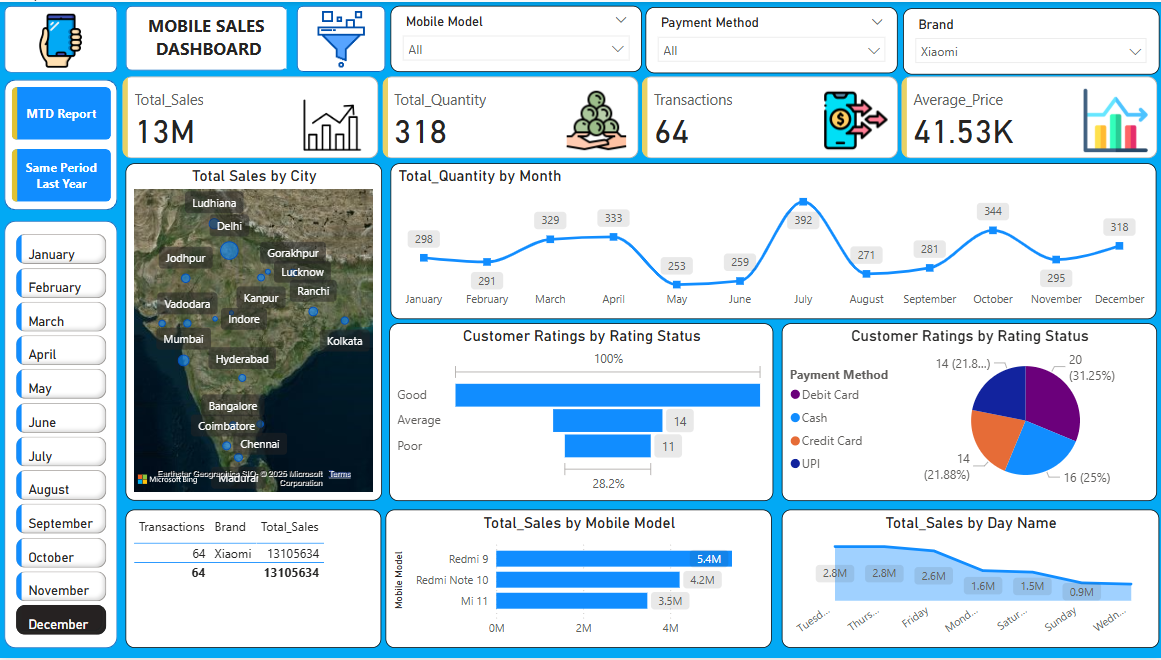

Layout of this report page (visuals, bound fields, positions):
{"tool":"powerbi","page":{"name":"Dashboard","canvas":[1280,720],"ordinal":0},"visuals":[{"type":"shape","box":[7.2,3.6,124.3,73.6],"z":0},{"type":"image","box":[35,3.6,68.8,77.2],"z":1000},{"type":"shape","box":[7.2,85.7,124.3,143.6],"z":2000},{"type":"shape","box":[7.2,240.1,124.3,469.3],"z":3000},{"type":"advancedSlicerVisual","fields":{"Values":["Custom_Calendar.Date.Variation.Date Hierarchy.Month"]},"box":[14.5,249.7,109.8,451.2],"z":4000},{"type":"cardVisual","fields":{"Data":["Mobile_Sales_Data.Total_Sales","Mobile_Sales_Data.Total_Quantity","Mobile_Sales_Data.Transactions","Mobile_Sales_Data.Average_Price"]},"box":[131.5,77.2,1148.5,100.1],"z":5000},{"type":"shape","box":[328,4.1,97.4,72.7],"z":6000},{"type":"slicer","fields":{"Values":["Mobile_Sales_Data.Mobile Model"]},"box":[430.9,4.1,275.8,72.7],"z":7000},{"type":"slicer","fields":{"Values":["Mobile_Sales_Data.Payment Method"]},"box":[710.8,5.5,277.2,72.7],"z":8000},{"type":"image","box":[328,4.1,97.4,74.1],"z":9000},{"type":"shape","box":[140,4.1,177,71.4],"z":10000},{"type":"textbox","box":[145.5,8.2,171.5,64.5],"z":11000},{"type":"map","title":"Total Sales by City","fields":{"Size":["Mobile_Sales_Data.Total_Sales"],"Category":["Mobile_Sales_Data.City"]},"box":[140,177,281.3,370.5],"z":12000},{"type":"lineChart","fields":{"Category":["Custom_Calendar.Date.Variation.Date Hierarchy.Month"],"Y":["Mobile_Sales_Data.Total_Quantity"]},"box":[430.9,177,841.2,171.5],"z":13000},{"type":"funnel","title":"Customer Ratings by Rating Status","fields":{"Category":["Mobile_Sales_Data.Rating Status"],"Y":["CountNonNull(Mobile_Sales_Data.Customer Ratings)"]},"box":[429.5,352.7,421.3,194.9],"z":14000},{"type":"pieChart","title":"Customer Ratings by Rating Status","fields":{"Category":["Mobile_Sales_Data.Payment Method"],"Y":["Mobile_Sales_Data.Transactions"]},"box":[860.4,352.7,411.7,194.9],"z":15000},{"type":"clusteredBarChart","fields":{"Category":["Mobile_Sales_Data.Mobile Model"],"Y":["Mobile_Sales_Data.Total_Sales"]},"box":[425.4,557.1,424,152.3],"z":16000},{"type":"stackedAreaChart","fields":{"Category":["Custom_Calendar.Day Name"],"Y":["Mobile_Sales_Data.Total_Sales"]},"box":[860.4,557.1,414.4,152.3],"z":17000},{"type":"slicer","fields":{"Values":["Mobile_Sales_Data.Brand"]},"box":[993.5,6.9,281.3,72.7],"z":18000},{"type":"tableEx","fields":{"Values":["Mobile_Sales_Data.Transactions","Mobile_Sales_Data.Brand","Mobile_Sales_Data.Total_Sales"]},"box":[140,557,281,152],"z":19000},{"type":"pageNavigator","box":[15.1,93.3,109.8,127.6],"z":20001}]}

Visuals, with their boxes in screenshot pixels (x1, y1, x2, y2), scaled from the page's 1280x720 canvas onto the 1161x660 screenshot:
shape: <bbox>7, 3, 119, 71</bbox>
image: <bbox>32, 3, 94, 74</bbox>
shape: <bbox>7, 79, 119, 210</bbox>
shape: <bbox>7, 220, 119, 650</bbox>
advancedSlicerVisual - Custom_Calendar.Date.Variation.Date Hierarchy.Month: <bbox>13, 229, 113, 642</bbox>
cardVisual - Mobile_Sales_Data.Total_Sales x Mobile_Sales_Data.Total_Quantity: <bbox>119, 71, 1160, 163</bbox>
shape: <bbox>298, 4, 386, 70</bbox>
slicer - Mobile_Sales_Data.Mobile Model: <bbox>391, 4, 641, 70</bbox>
slicer - Mobile_Sales_Data.Payment Method: <bbox>645, 5, 896, 72</bbox>
image: <bbox>298, 4, 386, 72</bbox>
shape: <bbox>127, 4, 288, 69</bbox>
textbox: <bbox>132, 8, 288, 67</bbox>
"Total Sales by City" map: <bbox>127, 162, 382, 502</bbox>
lineChart - Custom_Calendar.Date.Variation.Date Hierarchy.Month x Mobile_Sales_Data.Total_Quantity: <bbox>391, 162, 1154, 319</bbox>
"Customer Ratings by Rating Status" funnel: <bbox>390, 323, 772, 502</bbox>
"Customer Ratings by Rating Status" pieChart: <bbox>780, 323, 1154, 502</bbox>
clusteredBarChart - Mobile_Sales_Data.Mobile Model x Mobile_Sales_Data.Total_Sales: <bbox>386, 511, 770, 650</bbox>
stackedAreaChart - Custom_Calendar.Day Name x Mobile_Sales_Data.Total_Sales: <bbox>780, 511, 1156, 650</bbox>
slicer - Mobile_Sales_Data.Brand: <bbox>901, 6, 1156, 73</bbox>
tableEx - Mobile_Sales_Data.Transactions x Mobile_Sales_Data.Brand: <bbox>127, 511, 382, 650</bbox>
pageNavigator: <bbox>14, 86, 113, 202</bbox>
